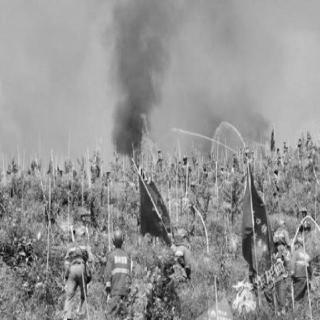Fire: (134, 104, 160, 180)
Smoke: (110, 0, 162, 152)
